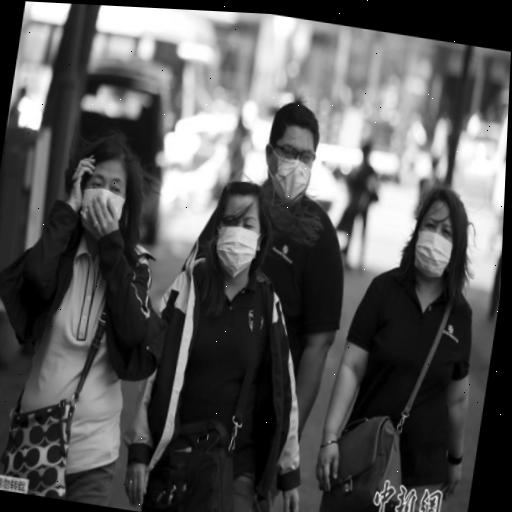mask: (63, 125, 148, 244), (401, 174, 476, 293), (200, 170, 275, 286), (255, 90, 327, 209)
